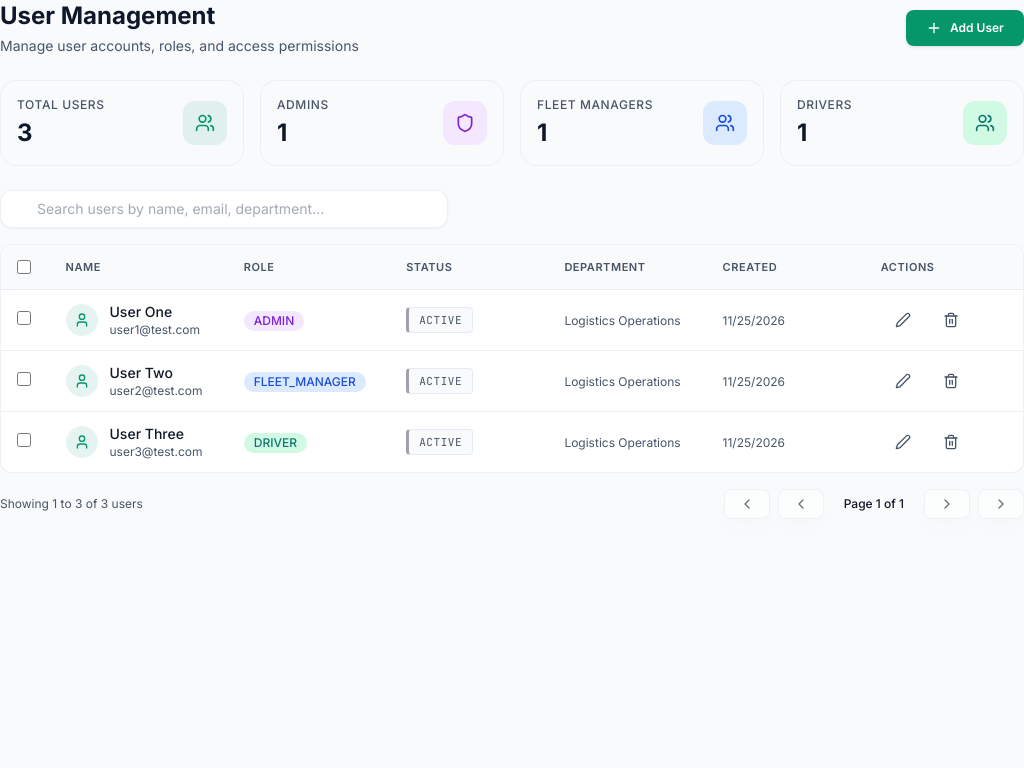
Scenario: UserManagementPage › Edit User Flow › opens edit modal when edit button clicked
Expected: the text "User One" is shown, [110,303,172,320]
# Click edit button for first user
Click the button named "edit user": [903, 320] box [881,306,925,334]
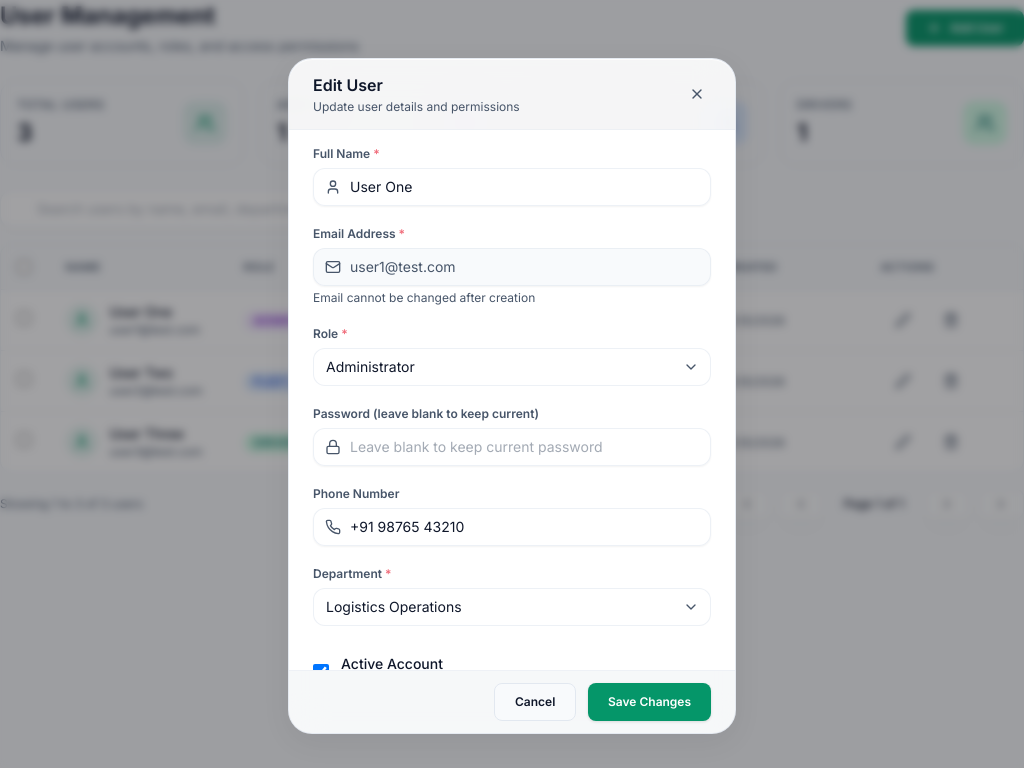
Now the heading "Edit User" is shown, box [313,75,383,95]
Now the field showing "User One" is shown, box [313,168,711,206]
